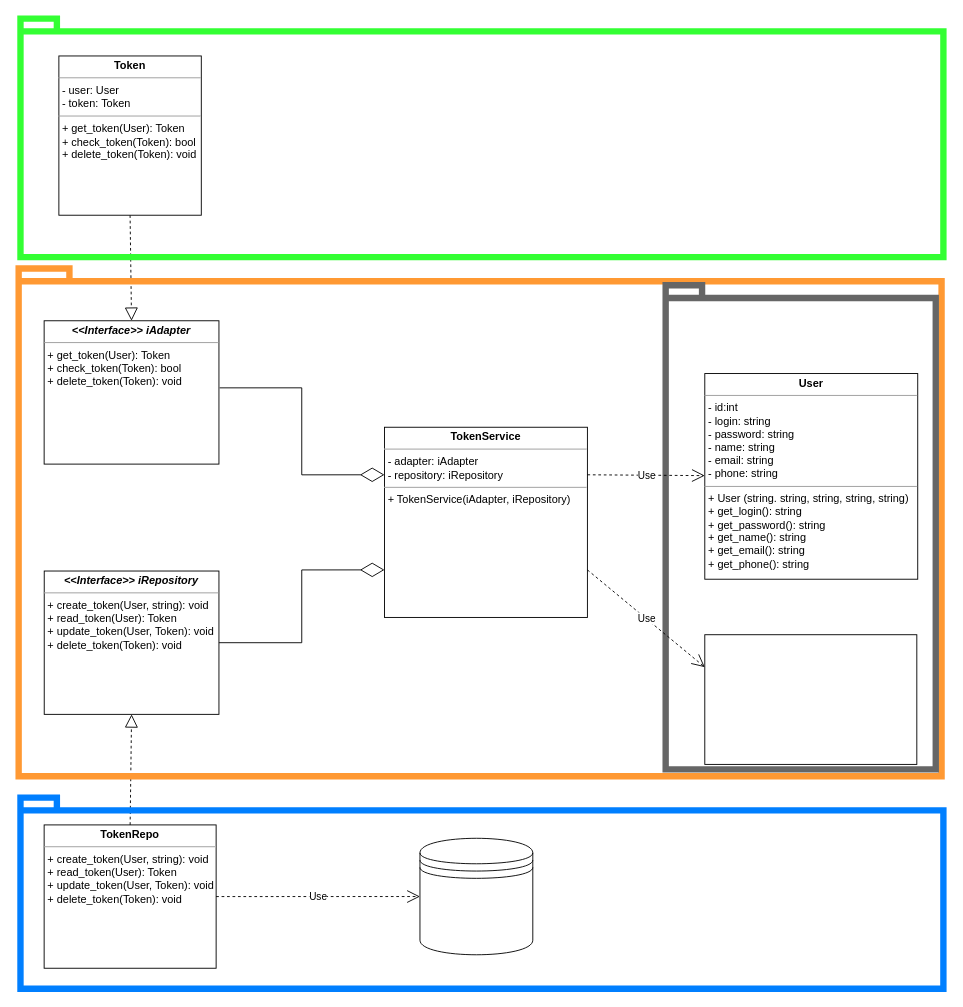
This 963x1007 diagram has some shape labels left out. Here are the shapes that lost their labels. From the top down, the centre of each, then its label:
At pixel 810 699: "Token - token: string + Token(): string + get_token: string".
At pixel 476 896: "Data_Base".
